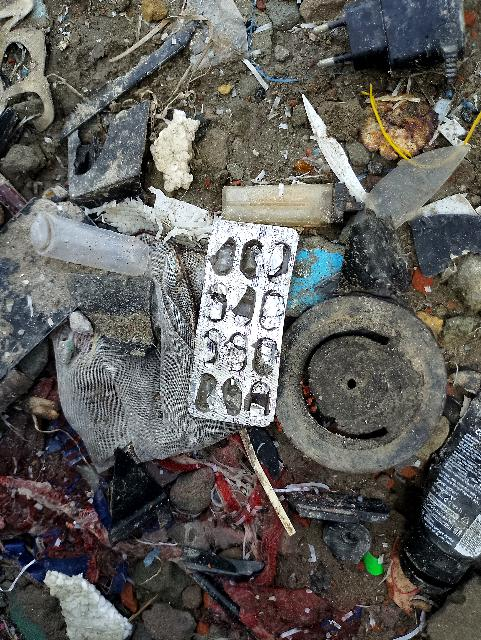medicine: (199, 214, 289, 430)
